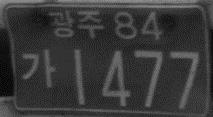1: (71, 46, 88, 107)
4: (101, 49, 131, 108), (140, 9, 163, 40)
7: (167, 49, 200, 111), (132, 48, 164, 109)
8: (113, 9, 139, 41)
가: (19, 47, 56, 90)
광주_O: (48, 8, 104, 39)
